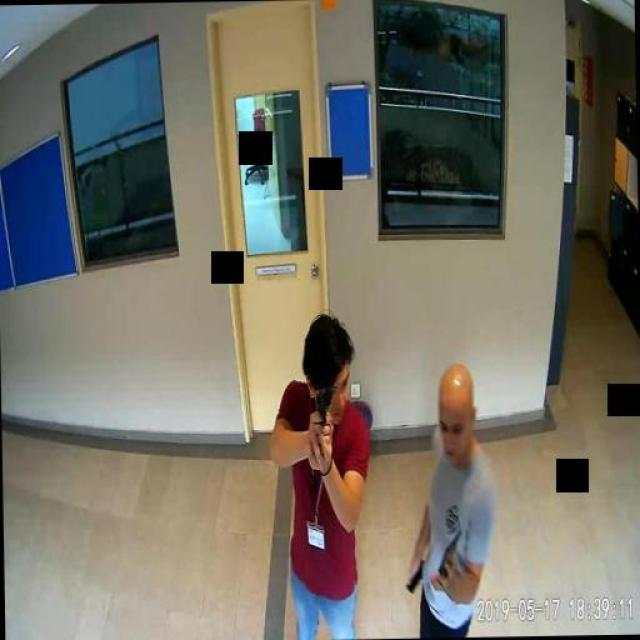gun: (315, 387, 331, 448)
